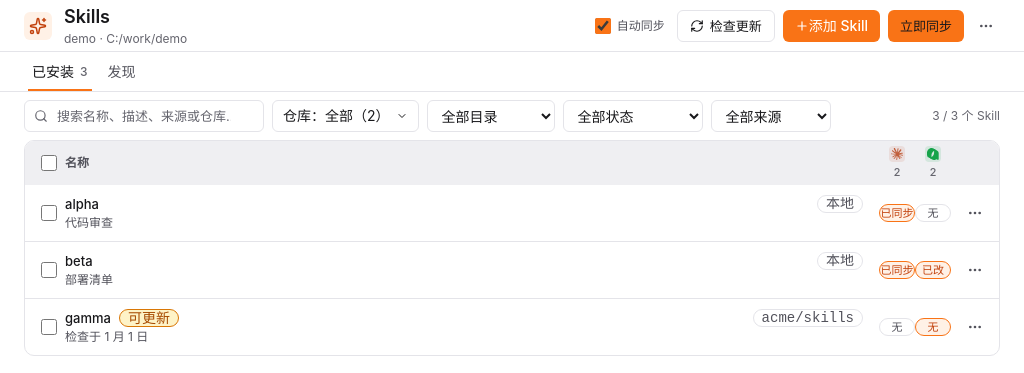
项目里没有 cc-switch 导入这条来源
The width and height of the screenshot is (1024, 373).
Check: the text "alpha" is shown, box [65, 194, 99, 214]
Click the button "添加 Skill": coordinates (831, 26) [783, 10, 880, 42]
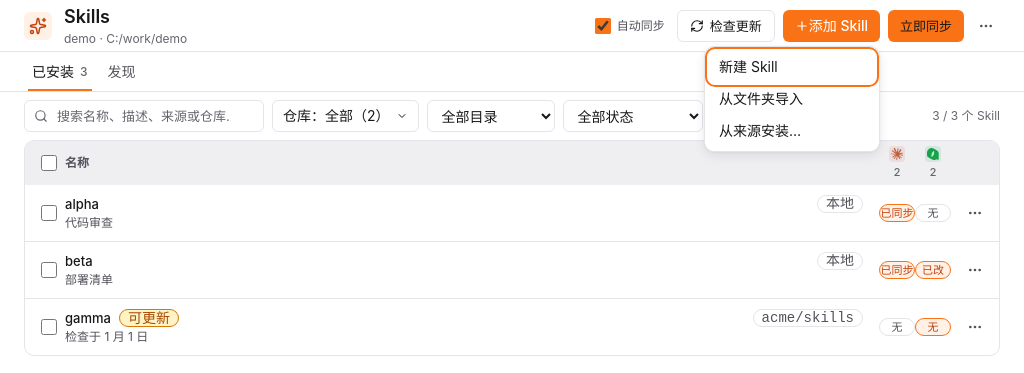
Check: the menu item "从文件夹导入" is shown, box [709, 82, 875, 114]
Click the button named "项目 Skills 的更多操作": coordinates (986, 26) [972, 12, 1000, 40]
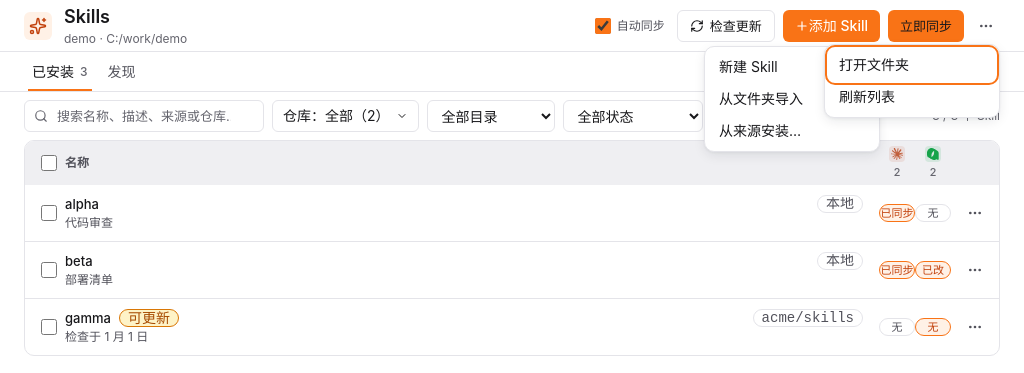
Check: the dropdown named "按来源筛选" does not show "cc-switch", box [710, 100, 830, 132]
Check: the menu item "打开文件夹" is shown, box [829, 48, 995, 80]
